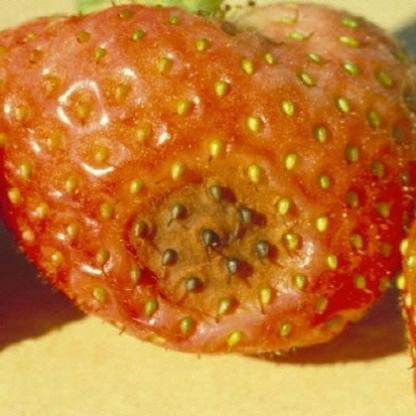Strawberry_Anthracnose_Fruit_Rot: (118, 154, 326, 330)
